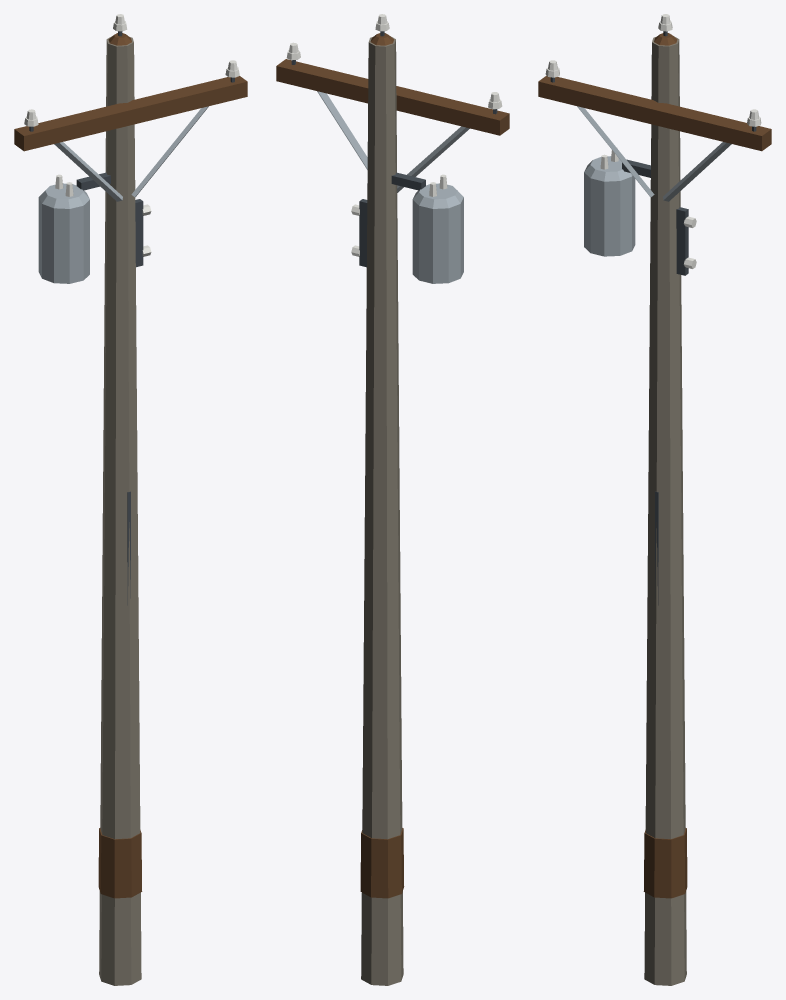
File: GL_UtilityPoleTransformer_01.glb
3 renders of one model, left to right at view 1: azimuth 30°, elevation 25°; view 2: azimuth 150°, elevation 25°; view 3: azimuth 330°, elevation 25°, orthographic.
Visible parts, largest first — view 1: GL_UtilityPoleTransformer_01; view 2: GL_UtilityPoleTransformer_01; view 3: GL_UtilityPoleTransformer_01.
Part boxes in pixels (x1=…): GL_UtilityPoleTransformer_01: x1=14, y1=14, x2=247, y2=985; GL_UtilityPoleTransformer_01: x1=276, y1=14, x2=509, y2=985; GL_UtilityPoleTransformer_01: x1=538, y1=14, x2=771, y2=985.
Bounding box in the file's own units: 2 × 8.22 × 0.4318.
Materials: 1 (1 with a texture image).
